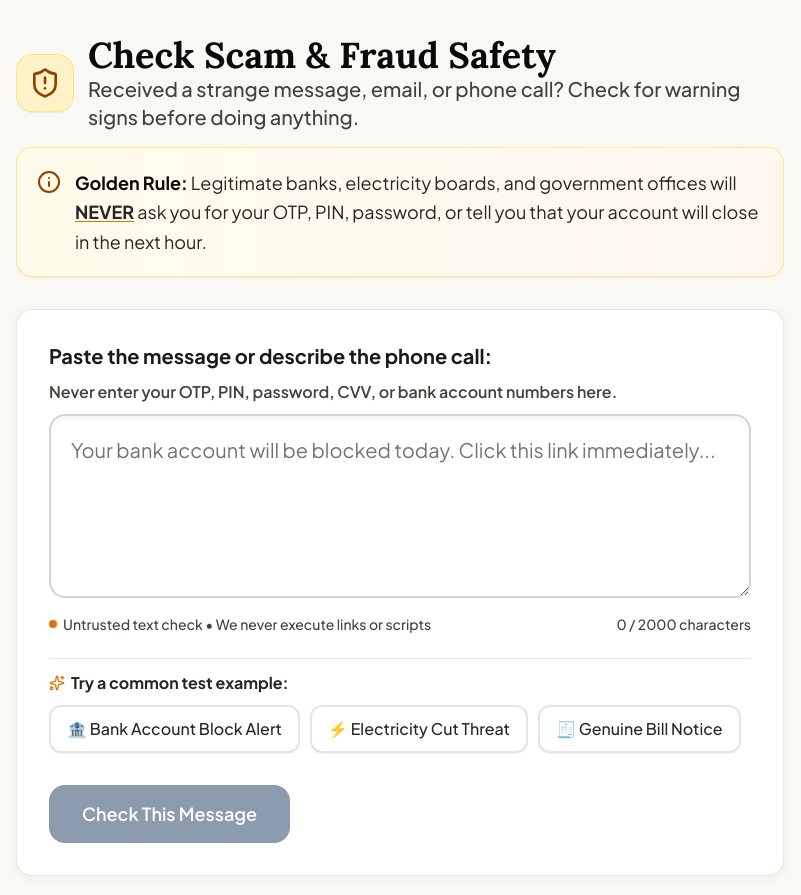
Test case: SafetyFeature Component & Accessibility Tests › does NOT render clickable hyperlinks or execute external URLs from untrusted text
Type "Check link http://scam-bank.xyz" into the text box at coordinates (400, 506), box [49, 414, 751, 598]
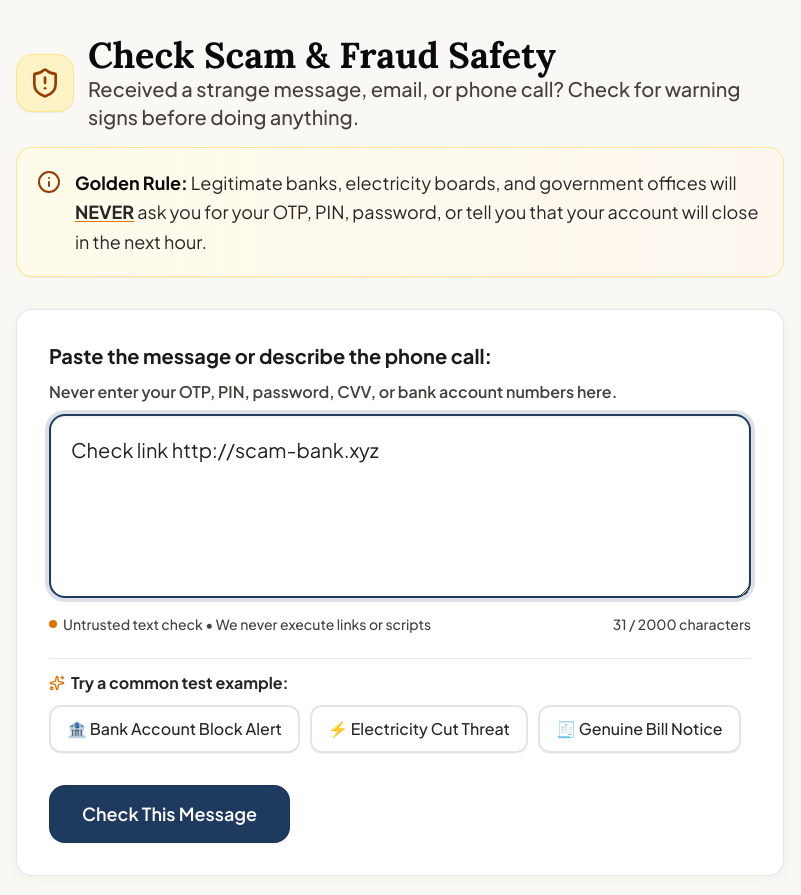
Click the button "Check This Message" at coordinates (170, 814), box [49, 785, 290, 843]
(page scrolled)
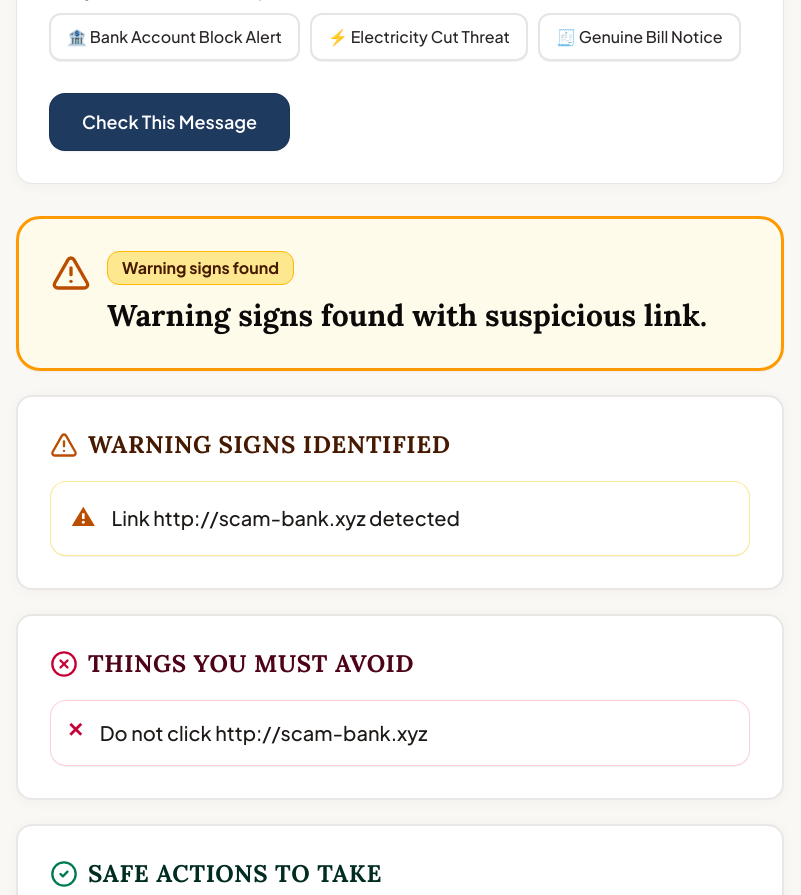
expect the heading "WARNING SIGNS IDENTIFIED" is shown: met, box [88, 429, 451, 461]
